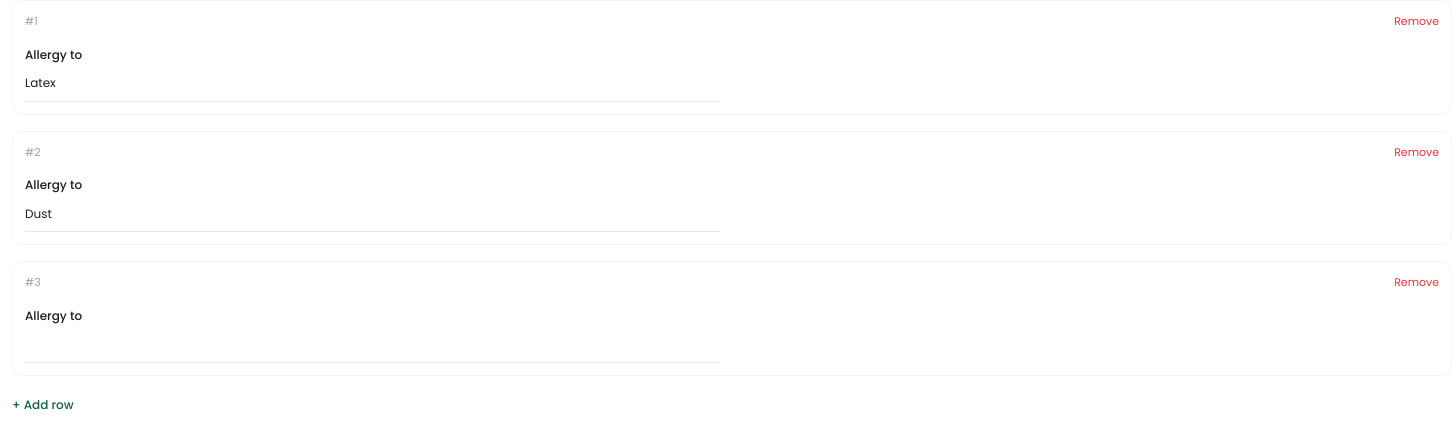
Scenario: RepeatableSectionRenderer (edit mode) › removes a row when its Remove control is clicked
The image size is (1452, 427).
Expected: the text "#3" is shown, [25,274,41,290]
Click the 1st button "Remove": (1417, 21) [1394,13,1439,30]
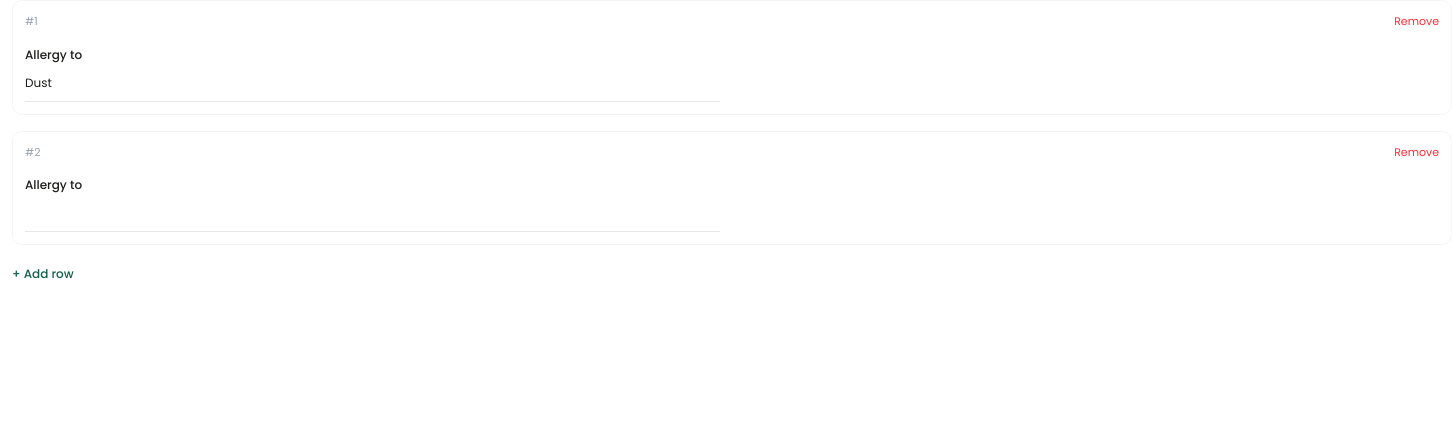
Expected: the text "#3" is gone
